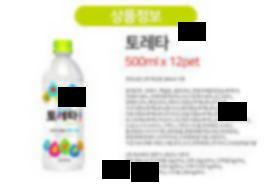toreta: (38, 36, 89, 177)
